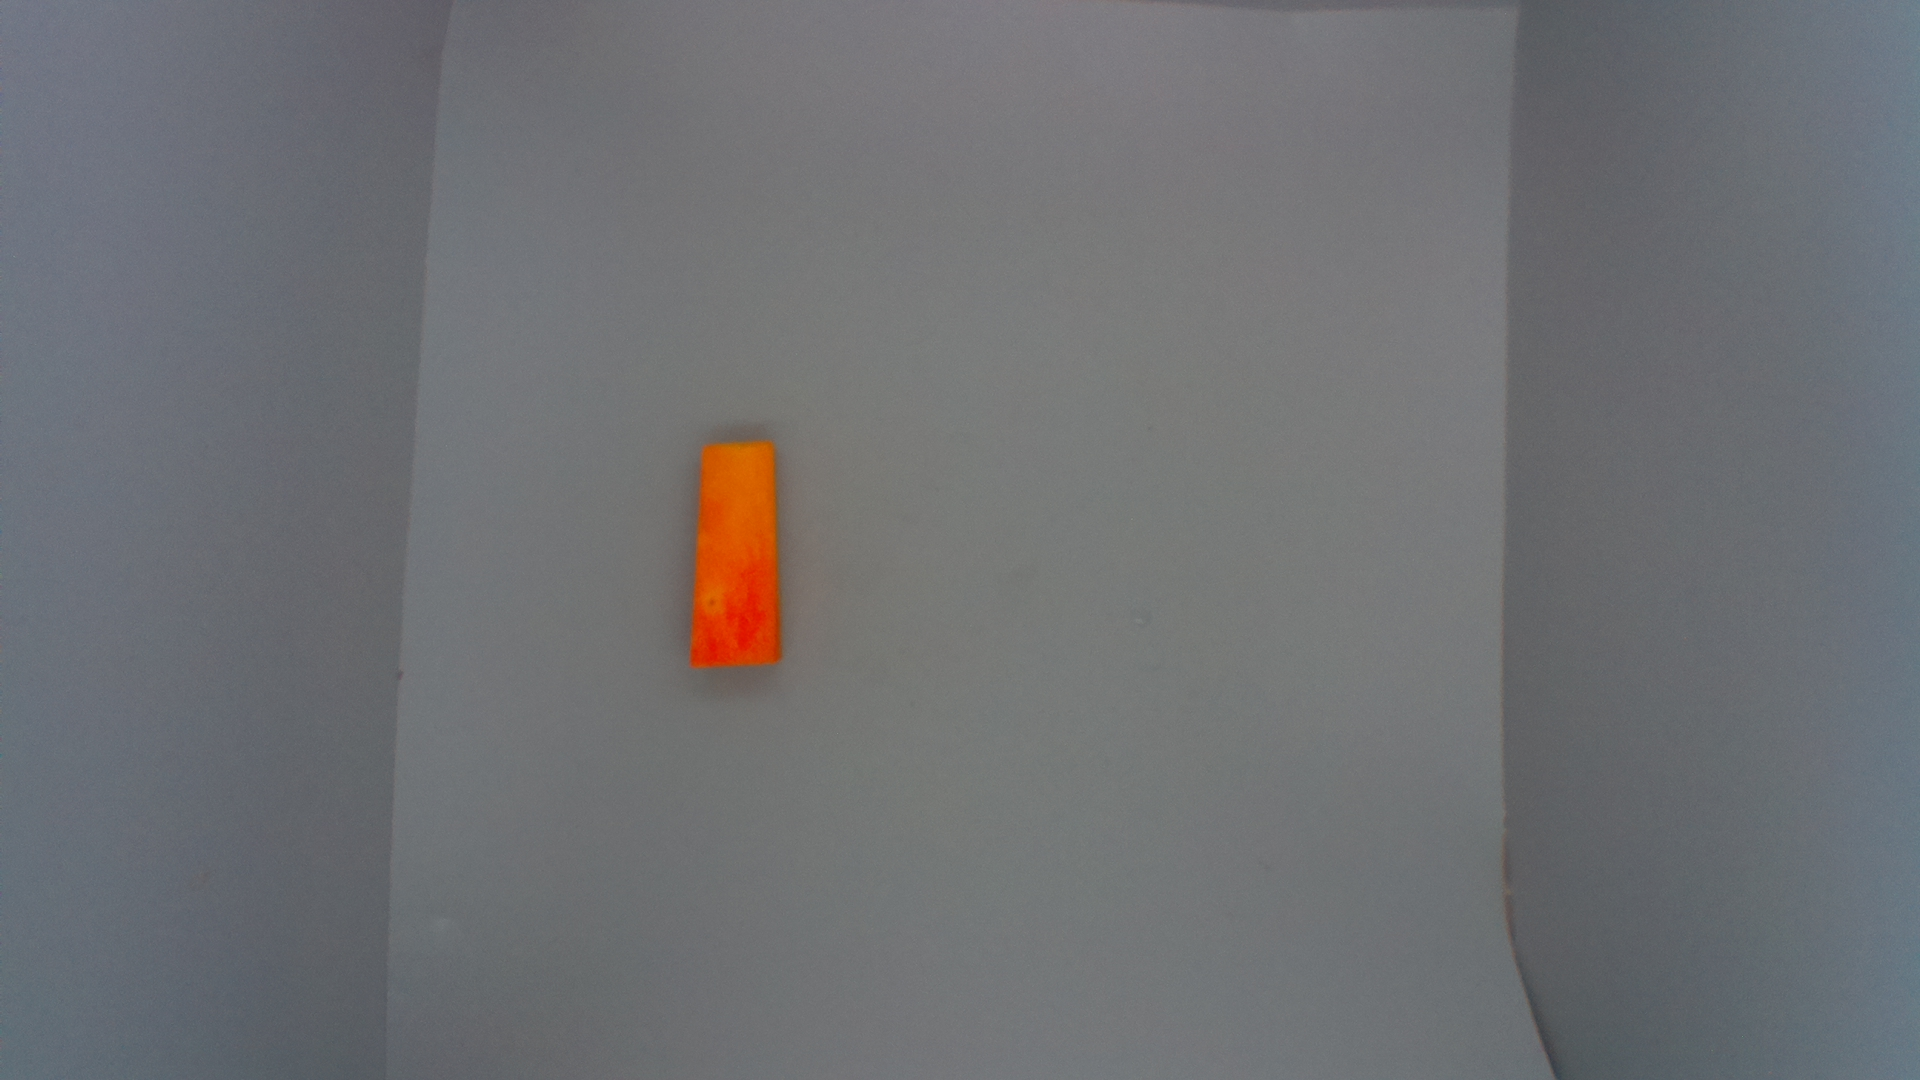carrot: (688, 436, 785, 671)
